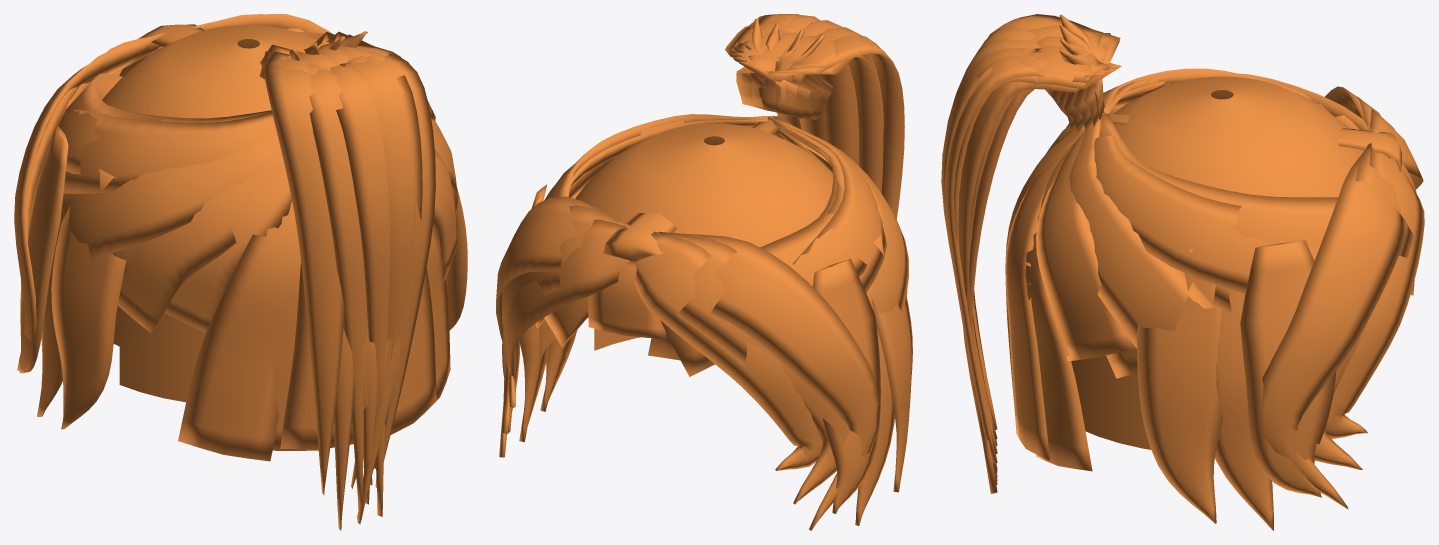
The model's file is eolka_hair.fbx.
The picture shows the model from 3 angles, left to right: view 1: azimuth 30°, elevation 25°; view 2: azimuth 150°, elevation 25°; view 3: azimuth 270°, elevation 25°; orthographic projection. The views are drawn at different scales.
Visible parts, largest first — view 1: EolkaHair; view 2: EolkaHair; view 3: EolkaHair.
Part boxes in pixels (left/top/right/bottom): EolkaHair: left=14, top=14, right=467, bottom=530; EolkaHair: left=496, top=14, right=912, bottom=530; EolkaHair: left=941, top=14, right=1424, bottom=530.
Bounding box in the file's own units: 166 × 187 × 178.
